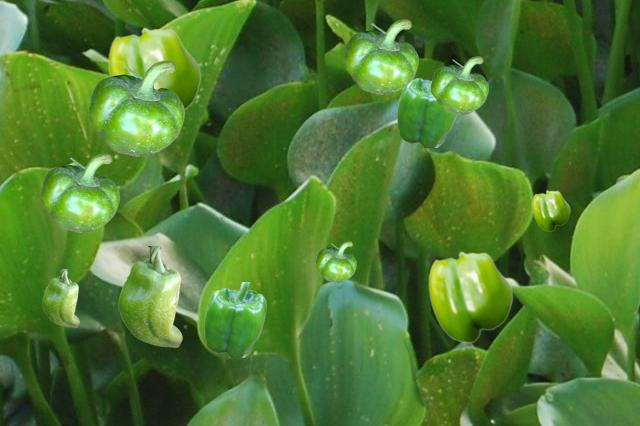bell_pepper: (89, 60, 183, 155), (108, 27, 200, 111), (428, 251, 512, 342), (118, 246, 181, 346), (41, 153, 118, 231), (344, 19, 417, 93), (204, 282, 265, 356), (397, 77, 456, 146), (431, 56, 487, 113), (42, 269, 78, 326), (316, 241, 355, 281), (532, 190, 569, 230)
